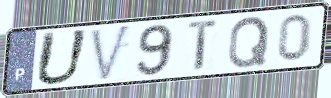0: (275, 12, 315, 65)
9: (134, 23, 176, 79)
Q: (225, 14, 272, 70)
T: (186, 17, 221, 74)
U: (32, 28, 91, 88)
V: (88, 22, 133, 84)
